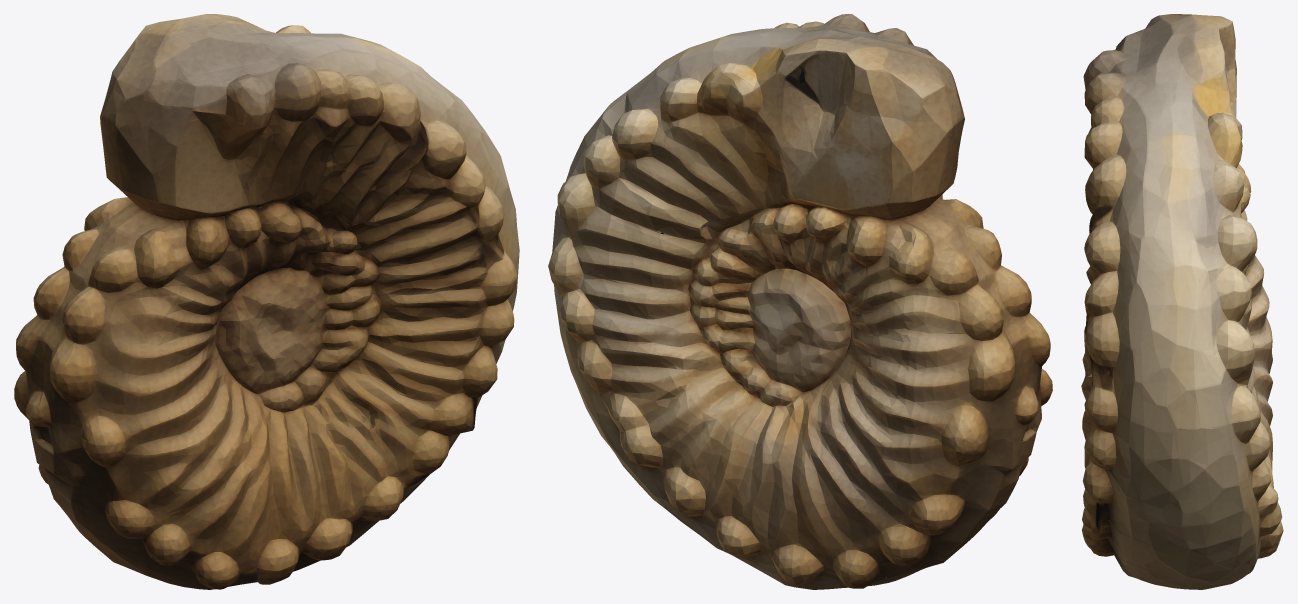
3 views of the same model, side by side, from view 1: azimuth 30°, elevation 25°; view 2: azimuth 150°, elevation 25°; view 3: azimuth 270°, elevation 25° (orthographic). The views are drawn at different scales.
Parts seen in each view (by area): view 1: world; view 2: world; view 3: world.
Boxes of the visible parts, x1=… form: world: x1=14, y1=14, x2=519, y2=589; world: x1=548, y1=14, x2=1052, y2=589; world: x1=1081, y1=14, x2=1283, y2=589.
Bounding box in the file's own units: 0.9037 × 0.9986 × 0.3497.
1 material, 1 textured.
